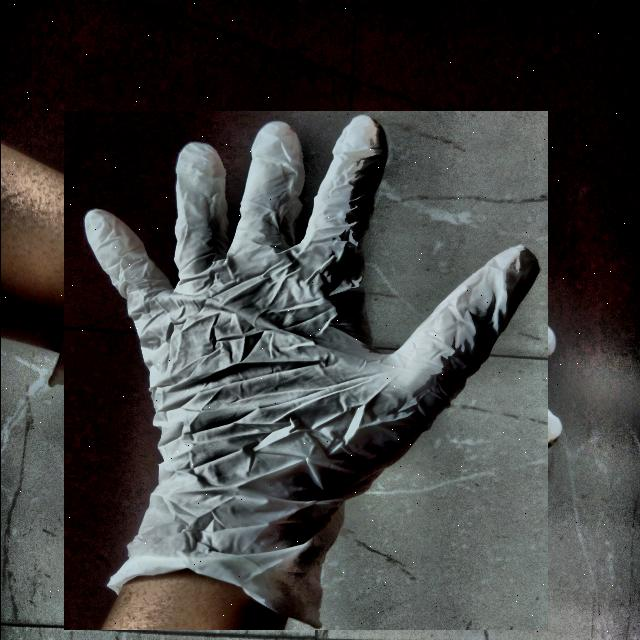gloved: (54, 119, 556, 622)
